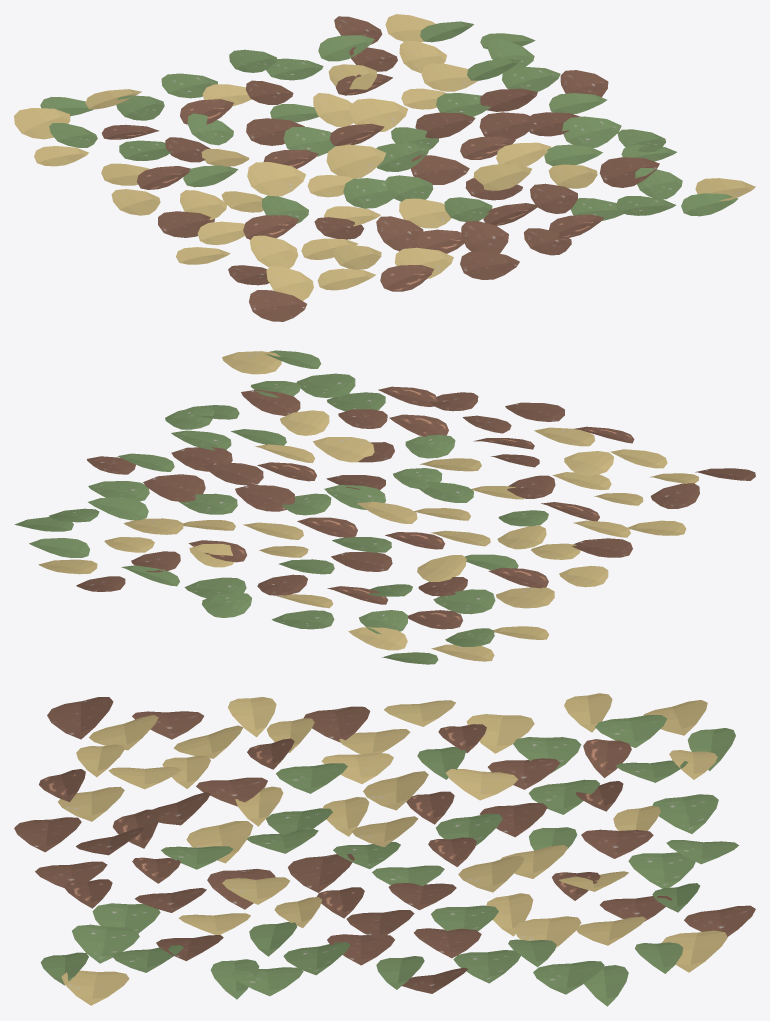
File: Leaves.fbx
The picture shows the model from 3 angles, top to bottom: view 1: azimuth 30°, elevation 25°; view 2: azimuth 150°, elevation 25°; view 3: azimuth 270°, elevation 25°; orthographic projection. The views are drawn at different scales.
Visible parts, largest first — view 1: Leaves; view 2: Leaves; view 3: Leaves.
Part boxes in pixels (left/top/right/bottom): Leaves: left=14, top=14, right=755, bottom=321; Leaves: left=14, top=350, right=755, bottom=664; Leaves: left=14, top=693, right=755, bottom=1006.
Bounding box in the file's own units: 81.53 × 3.17 × 82.77.
